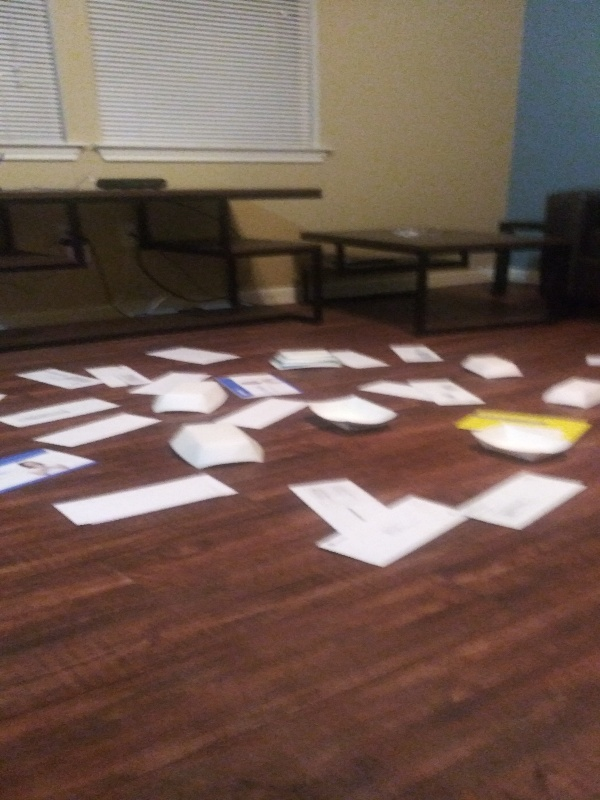plate: (165, 421, 270, 473), (468, 420, 576, 464), (300, 392, 400, 436), (146, 377, 232, 418), (537, 373, 600, 412), (457, 348, 528, 381), (266, 345, 347, 373)
